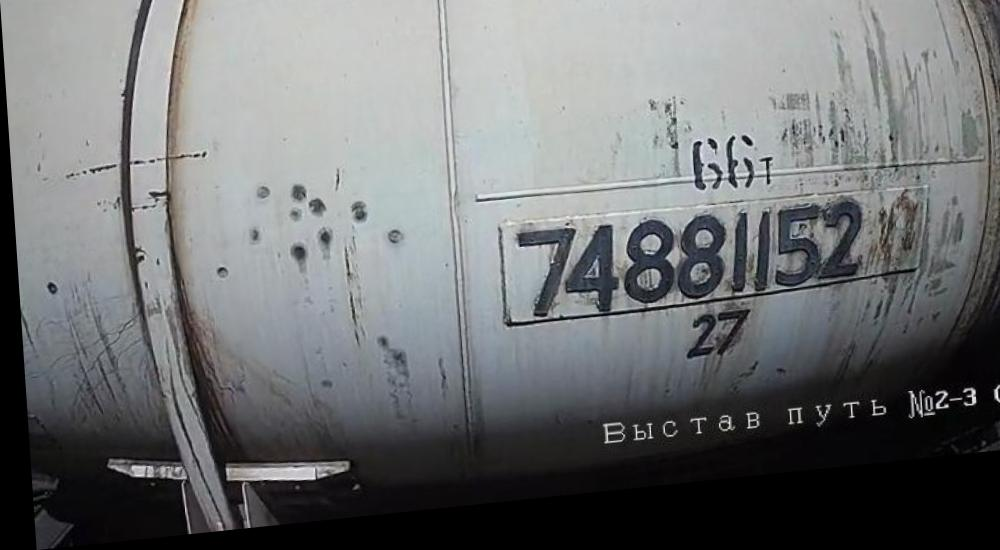Wagon-number: (506, 212, 867, 327)
